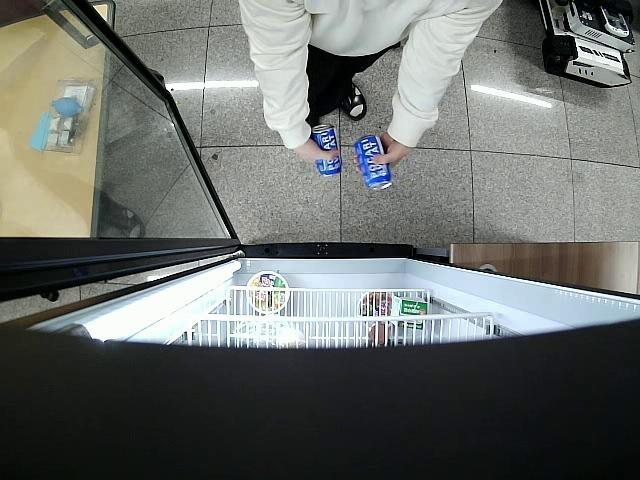13_pocariSweat: (355, 134, 391, 192), (312, 123, 346, 178)
